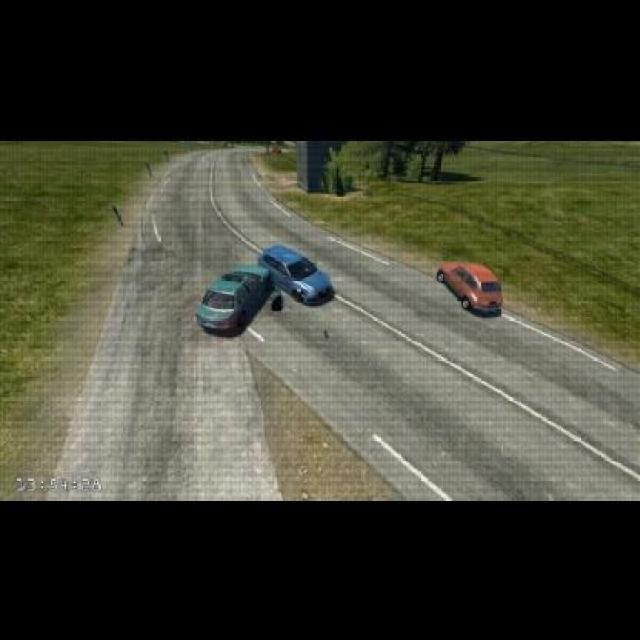accident: (211, 243, 320, 300)
